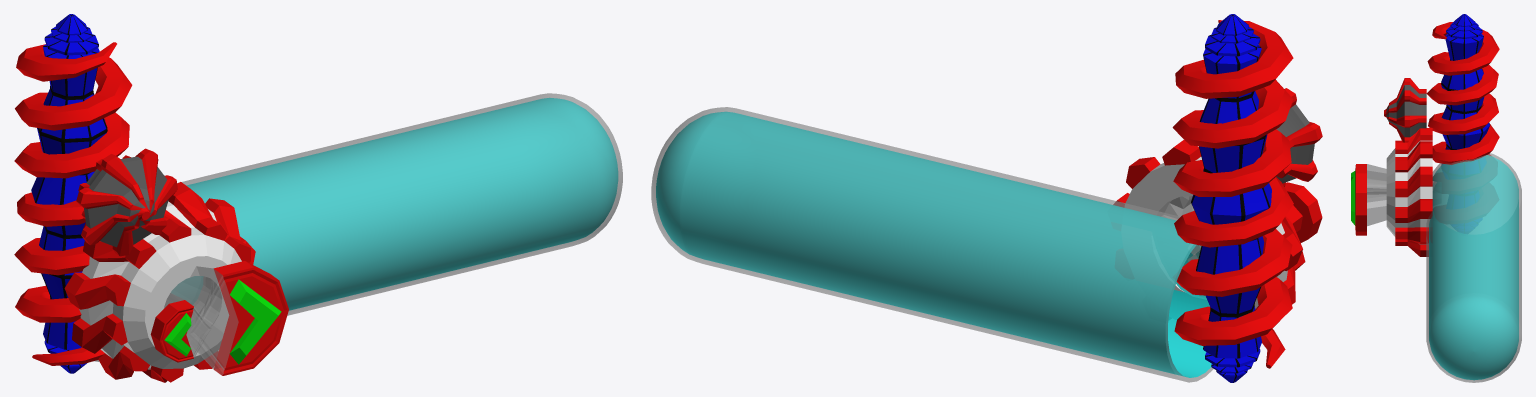
The model's file is NewGizmov1.fbx.
3 renders of one model, left to right at view 1: azimuth 30°, elevation 25°; view 2: azimuth 150°, elevation 25°; view 3: azimuth 270°, elevation 25°, orthographic. The views are drawn at different scales.
Visible parts, largest first — view 1: vial, maingear, helix, forwardbutton, helixpole, subgear, backbutton; view 2: vial, helix, helixpole, maingear, subgear, backbutton; view 3: vial, helix, maingear, helixpole, forwardbutton, subgear, backbutton.
Part boxes in pixels (bbox=[...]): vial: bbox=[94, 93, 622, 361]; maingear: bbox=[64, 182, 255, 382]; helix: bbox=[14, 42, 132, 365]; forwardbutton: bbox=[164, 261, 288, 375]; helixpole: bbox=[31, 14, 107, 373]; subgear: bbox=[76, 148, 177, 256]; backbutton: bbox=[150, 293, 211, 362]; vial: bbox=[651, 107, 1213, 382]; helix: bbox=[1172, 20, 1293, 368]; helixpole: bbox=[1191, 14, 1271, 382]; maingear: bbox=[1113, 140, 1305, 309]; subgear: bbox=[1276, 88, 1322, 186]; backbutton: bbox=[1284, 182, 1322, 242]; vial: bbox=[1426, 153, 1521, 382]; helix: bbox=[1426, 22, 1499, 176]; maingear: bbox=[1386, 128, 1432, 256]; helixpole: bbox=[1441, 14, 1489, 165]; forwardbutton: bbox=[1351, 164, 1436, 235]; subgear: bbox=[1384, 78, 1426, 142]; backbutton: bbox=[1351, 168, 1386, 201].
Bounding box in the file's own units: 169 × 96.7 × 67.95.
